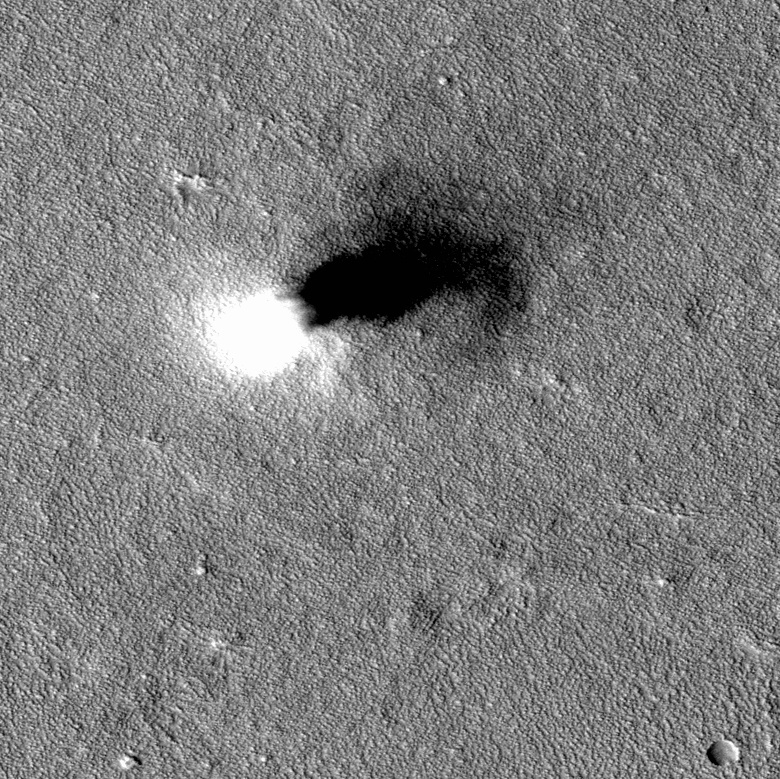dust_devil: (192, 197, 531, 392)
